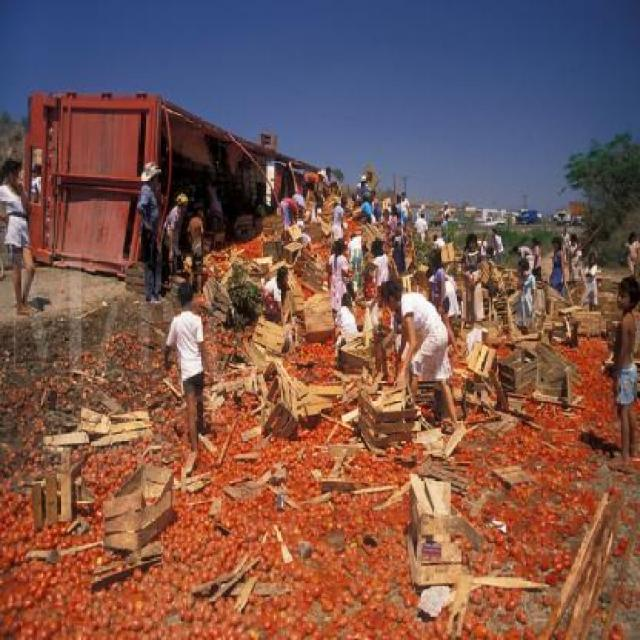garbage: (3, 367, 184, 640), (423, 429, 638, 639), (200, 340, 322, 639), (319, 368, 418, 638), (503, 351, 568, 638), (578, 446, 640, 639), (208, 253, 267, 369), (290, 222, 336, 336), (551, 290, 606, 369), (228, 193, 280, 256), (460, 332, 493, 400)
